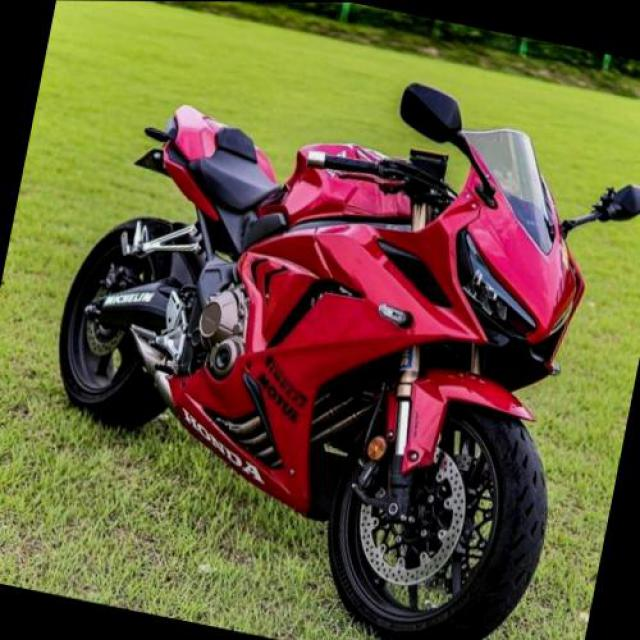CBR650R: (7, 45, 624, 639)
